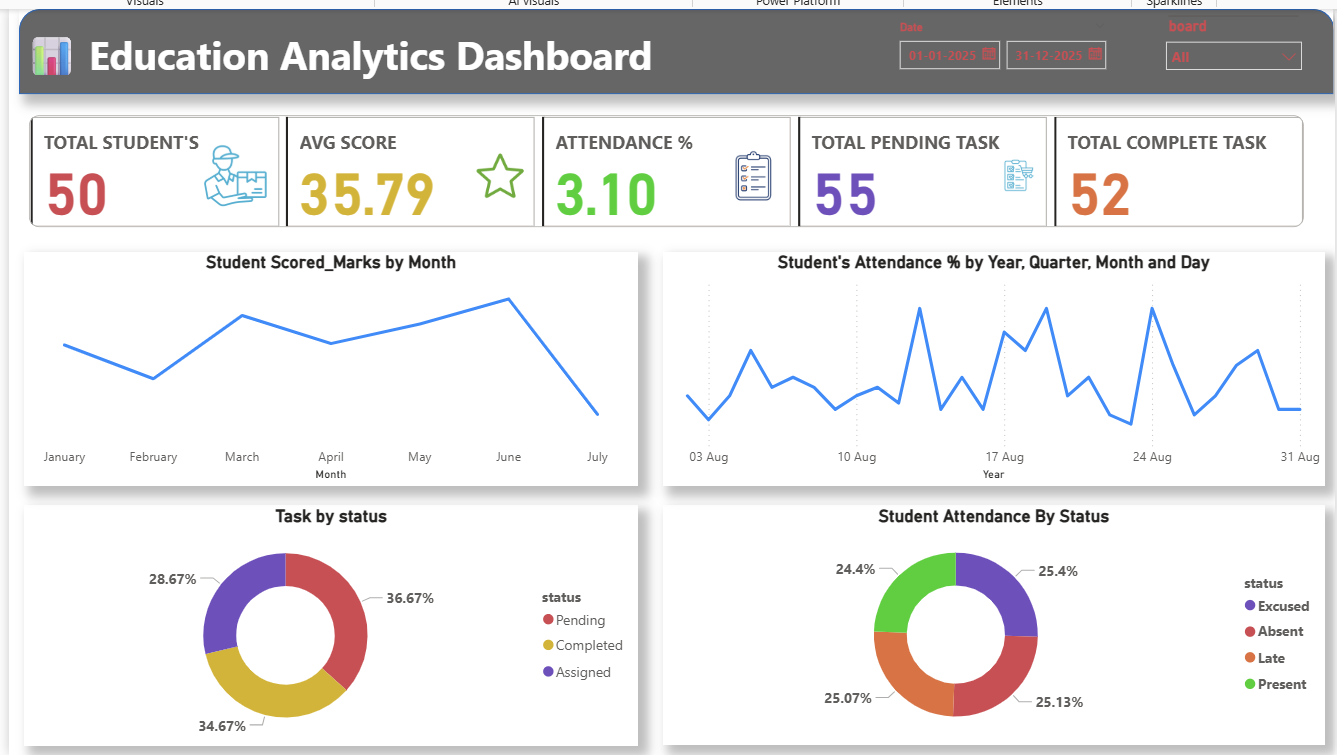

What the dashboard file says about the page in this screenshot:
{"tool":"powerbi","page":{"name":"Overall","canvas":[1280,720],"ordinal":0},"visuals":[{"type":"shape","box":[10.1,0,1269.6,82.2],"z":0},{"type":"slicer","fields":{"Values":["Students.board"]},"box":[1106.6,1.4,151.5,75],"z":1},{"type":"slicer","fields":{"Values":["calender table.Date"]},"box":[846.9,5.8,223.6,70.7],"z":2},{"type":"lineChart","title":"Student Scored_Marks by Month","fields":{"Y":["Sum(Test_Records.scored_marks)"],"Category":["calender table.Date.Variation.Date Hierarchy.Year","calender table.Date.Variation.Date Hierarchy.Quarter","calender table.Date.Variation.Date Hierarchy.Month","calender table.Date.Variation.Date Hierarchy.Day"]},"box":[14.4,233.7,593,226.5],"z":3},{"type":"lineChart","title":" Student''s Attendance % by Year, Quarter, Month and Day","fields":{"Y":["Attendance.attendance %"],"Category":["calender table.Date.Variation.Date Hierarchy.Year","calender table.Date.Variation.Date Hierarchy.Quarter","calender table.Date.Variation.Date Hierarchy.Month","calender table.Date.Variation.Date Hierarchy.Day"]},"box":[630.5,233.7,639.1,226.5],"z":7},{"type":"cardVisual","fields":{"Data":["Students.total student","Test_Records.avg score","Attendance.attendance %","Work_Tasks.total pending task","Work_Tasks.complete taks"]},"box":[14.4,98.1,1243.7,118.3],"z":8},{"type":"donutChart","title":"Task by status","fields":{"Category":["Work_Tasks.status"],"Y":["CountNonNull(Work_Tasks.status)"]},"box":[14.7,479.4,593.1,232.3],"z":9},{"type":"donutChart","title":"Student Attendance By Status","fields":{"Category":["Attendance.status"],"Y":["CountNonNull(Attendance.status)"]},"box":[630.5,479,639.1,230.8],"z":10}]}

Visuals, with their boxes on the page's 1280x720 design canvas (x1, y1, x2, y2). These are canvas units, not pixel positions in the 1337x755 screenshot, which may show the page scaled, cropped or inside an application window:
shape: [10, 0, 1280, 82]
slicer - Students.board: [1107, 1, 1258, 76]
slicer - calender table.Date: [847, 6, 1070, 76]
"Student Scored_Marks by Month" lineChart: [14, 234, 607, 460]
" Student''s Attendance % by Year, Quarter, Month and Day" lineChart: [630, 234, 1270, 460]
cardVisual - Students.total student x Test_Records.avg score: [14, 98, 1258, 216]
"Task by status" donutChart: [15, 479, 608, 712]
"Student Attendance By Status" donutChart: [630, 479, 1270, 710]
